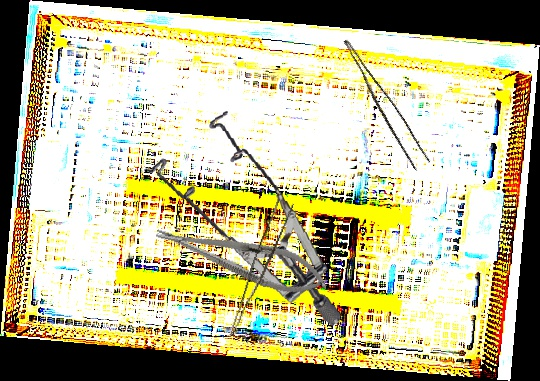Needle Holder: (150, 211, 334, 305)
Speculum: (142, 100, 342, 348)
Tissue Forceps: (329, 38, 435, 173), (229, 197, 294, 342)
